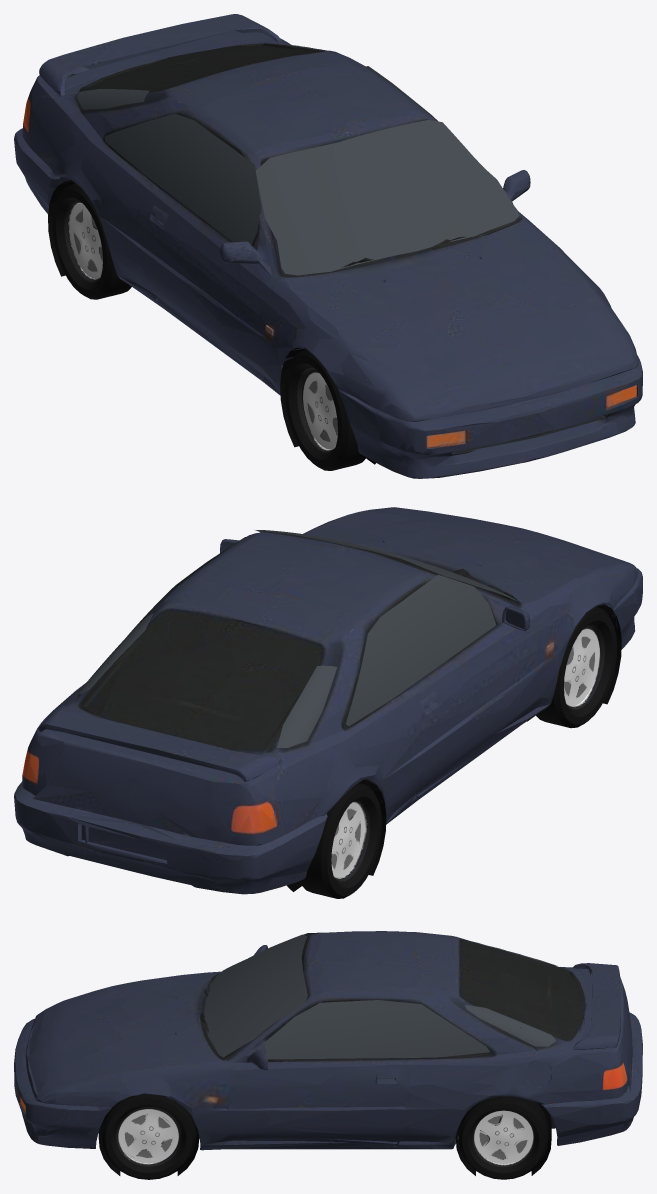
File: coupe.glb
3 renders of one model, top to bottom at view 1: azimuth 30°, elevation 25°; view 2: azimuth 150°, elevation 25°; view 3: azimuth 270°, elevation 25°, orthographic. The views are drawn at different scales.
Parts seen in each view (by area): view 1: body, glass, wheel_fr, wheel_rr; view 2: body, glass, wheel_rr, wheel_fr; view 3: body, glass, wheel_fl, wheel_rl.
Part boxes in pixels (x1,y1,x2,y2): body: (14,14,642,478); glass: (77,44,519,275); wheel_fr: (284,349,366,470); wheel_rr: (52,183,131,299); body: (14,507,642,894); glass: (78,530,518,747); wheel_rr: (299,783,381,898); wheel_fr: (536,607,617,728); body: (14,931,642,1175); glass: (204,931,557,1059); wheel_fl: (102,1094,195,1179); wheel_rl: (459,1096,548,1179).
Bounding box in the file's own units: 1.93 × 1.37 × 4.5.
3 materials, 2 textured.
